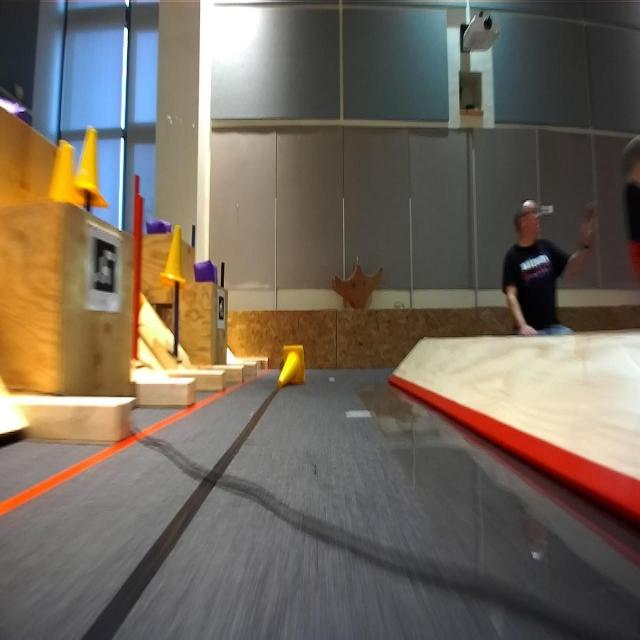frc_cone: (76, 126, 106, 211), (47, 142, 79, 206), (159, 221, 187, 287), (278, 346, 306, 389)
frc_cube: (193, 260, 217, 288), (145, 220, 173, 236)
